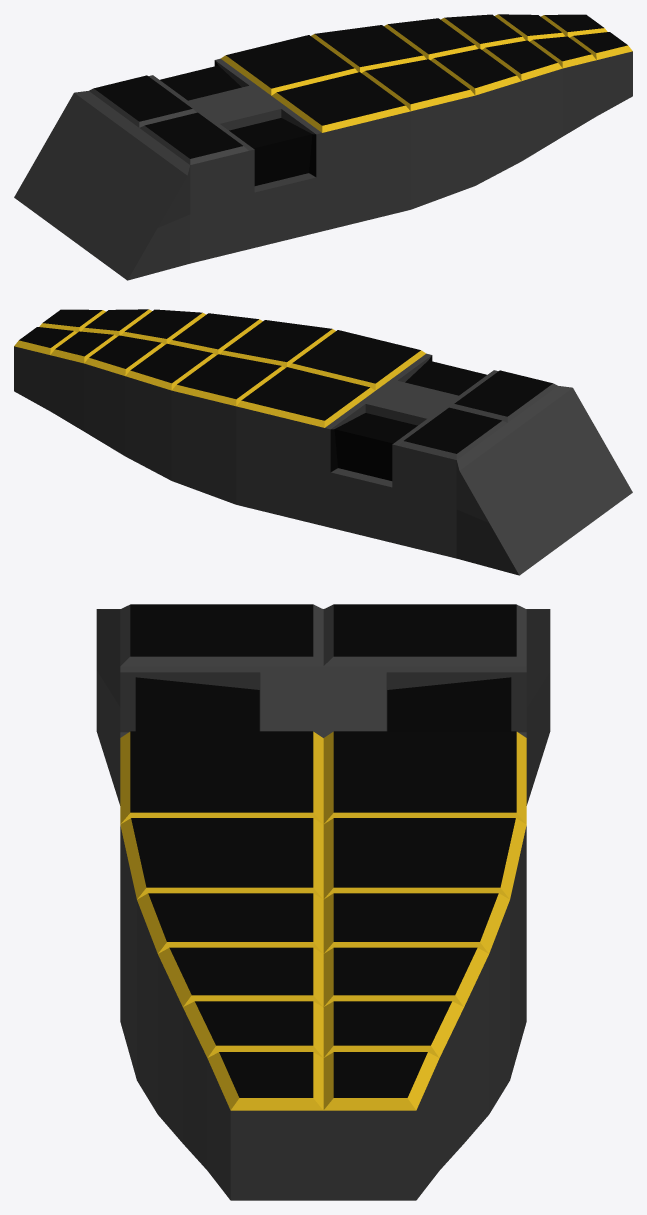
The model's file is GunTurretBodyUpgrade.fbx.
3 renders of one model, top to bottom at view 1: azimuth 30°, elevation 25°; view 2: azimuth 150°, elevation 25°; view 3: azimuth 270°, elevation 25°, orthographic. The views are drawn at different scales.
Parts seen in each view (by area): view 1: Cube.001; view 2: Cube.001; view 3: Cube.001.
Boxes of the visible parts, x1=… form: Cube.001: x1=14, y1=14, x2=632, y2=280; Cube.001: x1=14, y1=309, x2=632, y2=575; Cube.001: x1=96, y1=604, x2=550, y2=1200.
Bounding box in the file's own units: 229 × 45.36 × 83.35.
